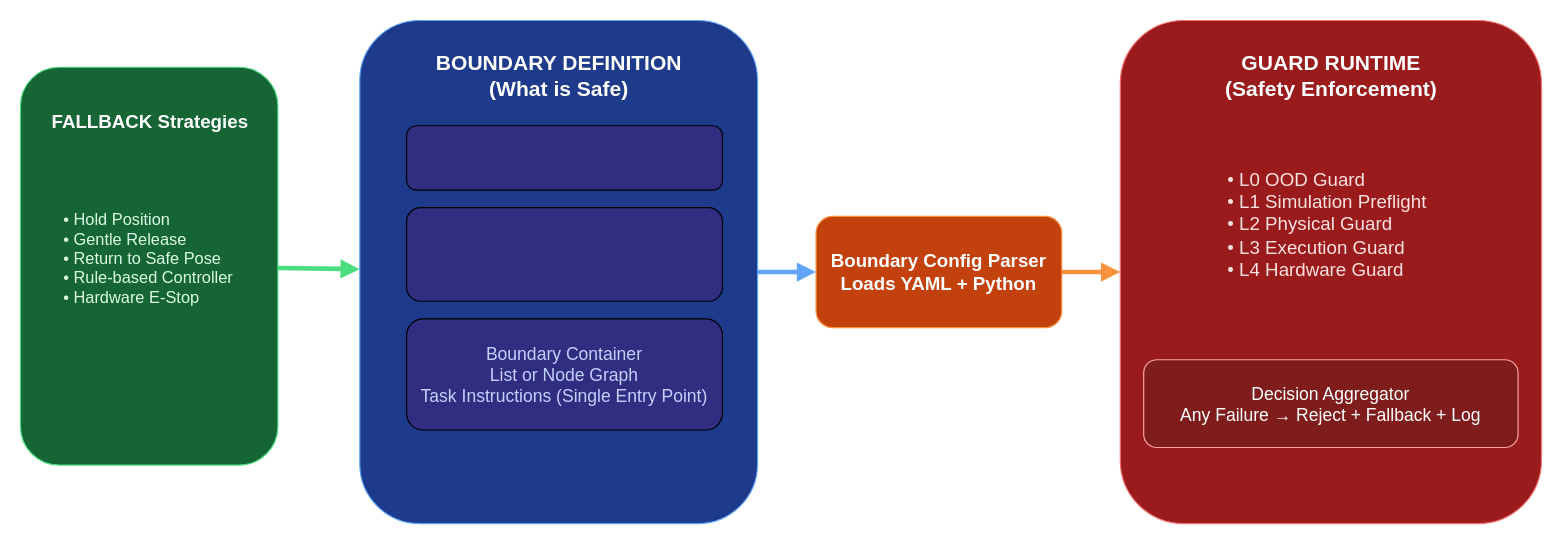
The diagram is 1562 pixels wide and 544 high, and some of its shapes have lost their labels. Each missing label, with the centre of its shape:
"Python Functions (Isaac Lab Style) Default / Custom / Full Path" belongs at [563,254].
"YAML Configuration" belongs at [563,157].
